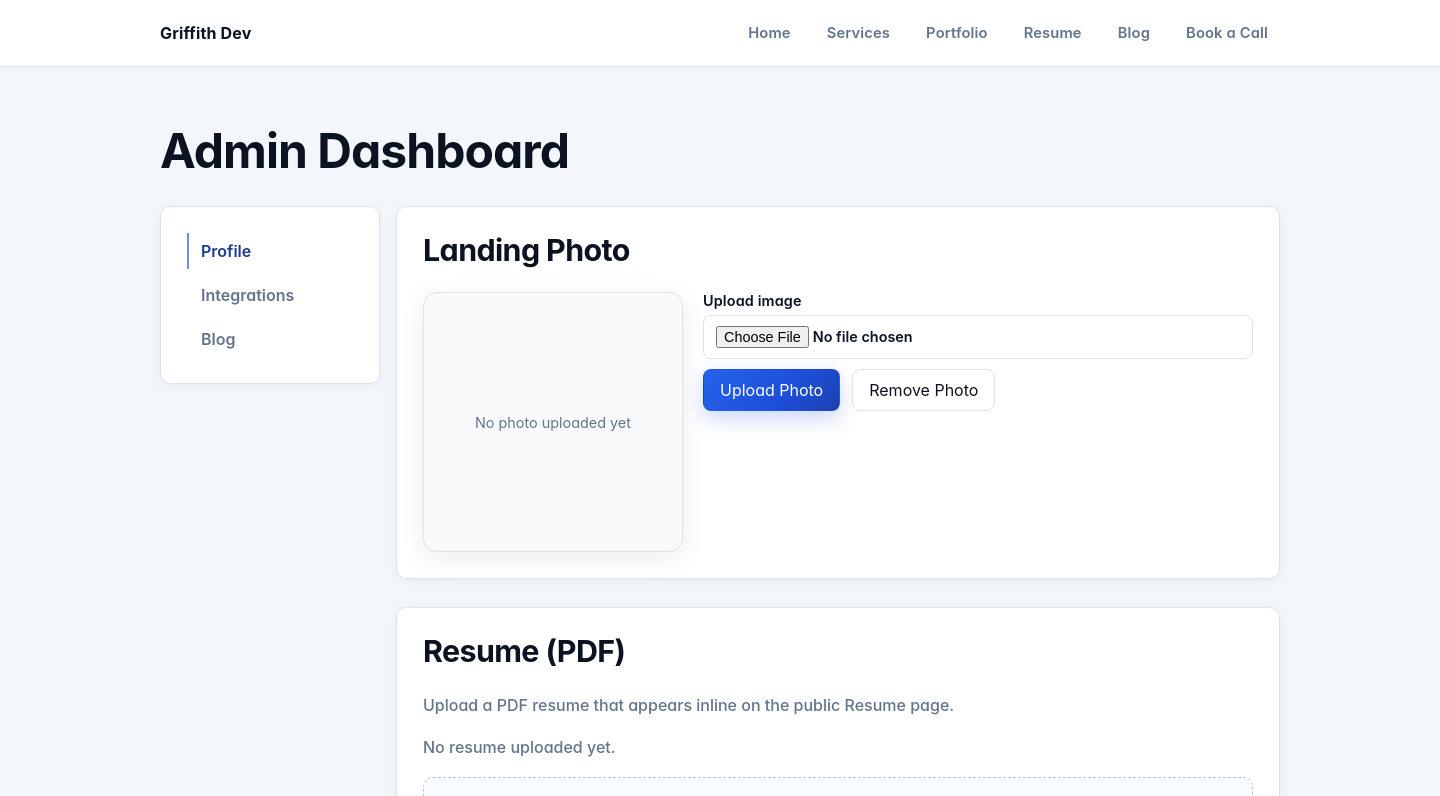
Scenario: App › shows admin tabs and allows switching between sections
The width and height of the screenshot is (1440, 796).
Expected: the button "Profile" is shown, [187,233,353,269]
Expected: the button "Blog" is shown, [187,321,353,357]
Click the button "Integrations" at (270, 295), box [187,277,353,313]
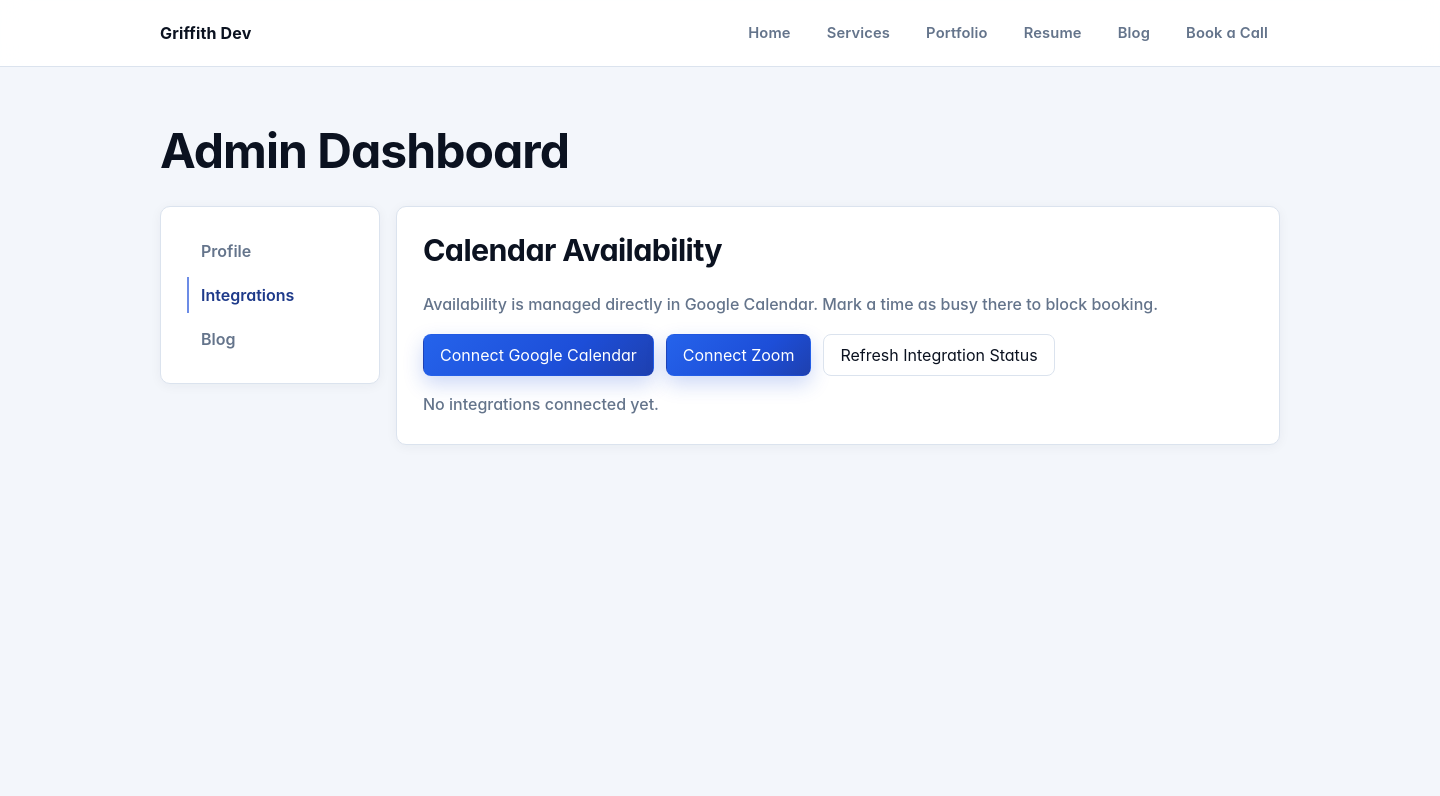
Now the heading "Calendar Availability" is shown, box [423,232,722,268]
Click the button "Blog" at (270, 339), box [187,321,353,357]
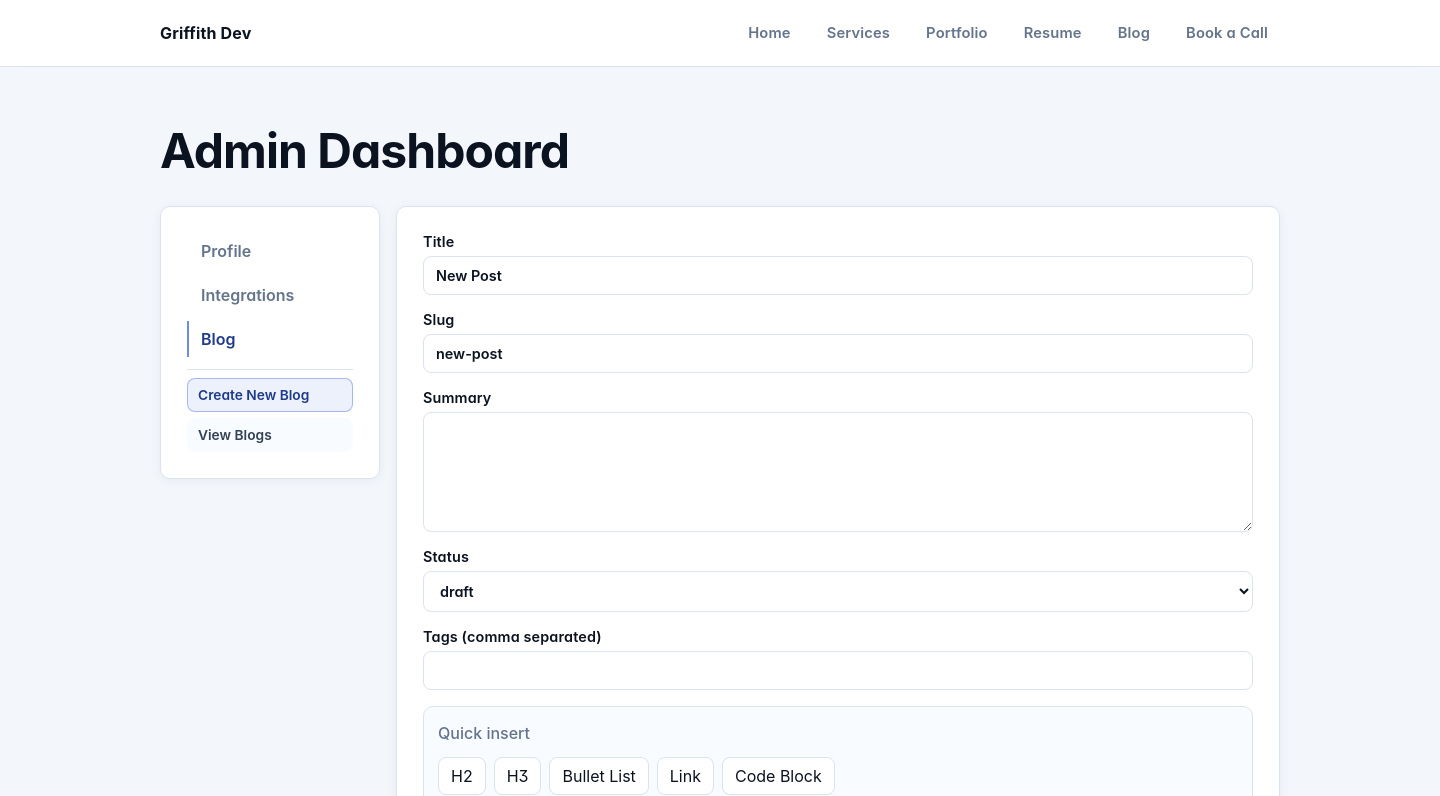
Now the button "Create New Blog" is shown, box [187,378,353,412]
Click the button "View Blogs" at (270, 435), box [187,418,353,452]
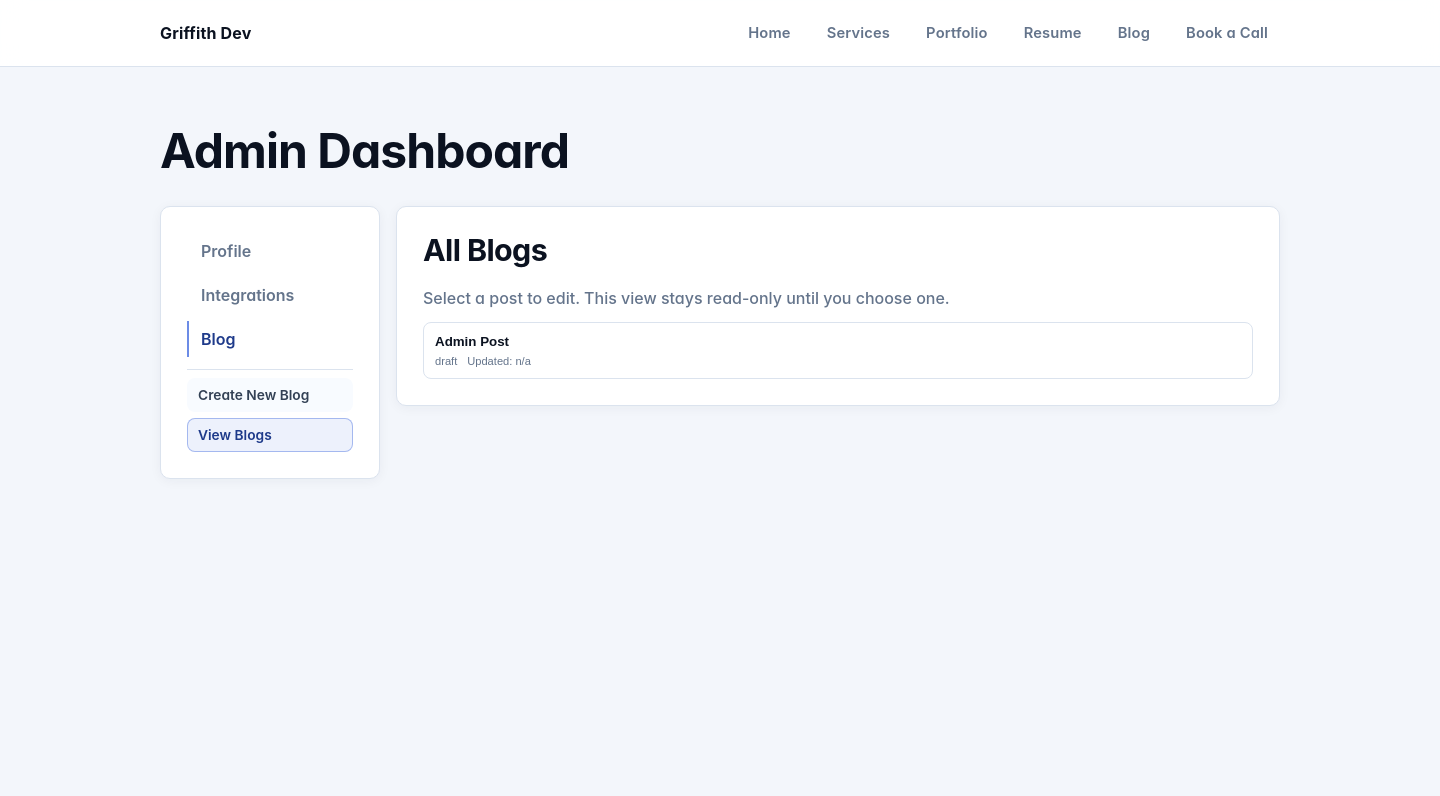
Now the button "Admin Post draft Updated: n/a" is shown, box [423,322,1253,379]
Click the button "Profile" at (270, 251), box [187,233,353,269]
(page scrolled)
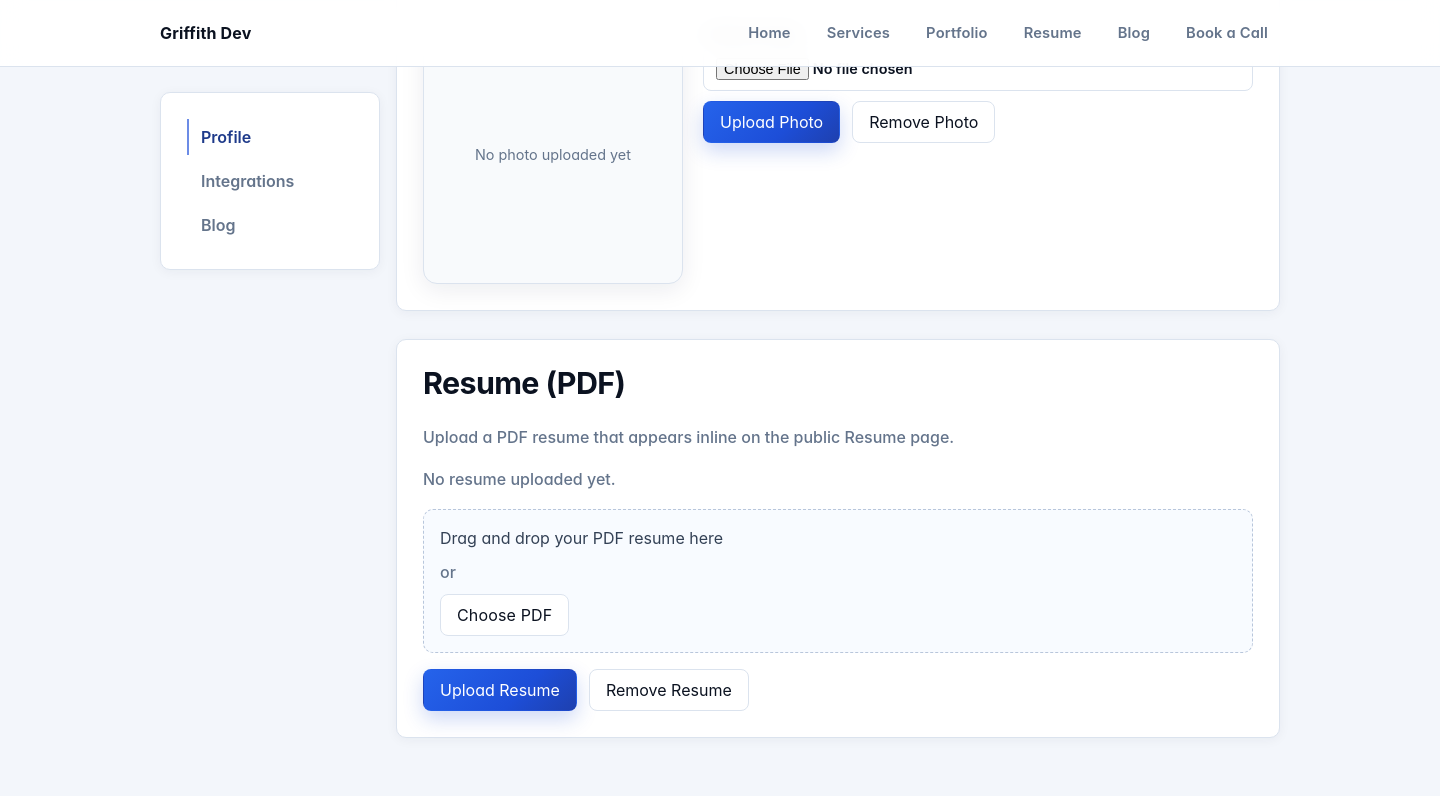
Now the heading "Resume (PDF)" is shown, box [423,365,625,401]
Now the text "Drag and drop your PDF resume here" is shown, box [440,526,723,552]
